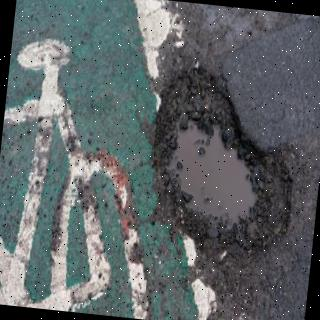pothole: (151, 63, 291, 251)
